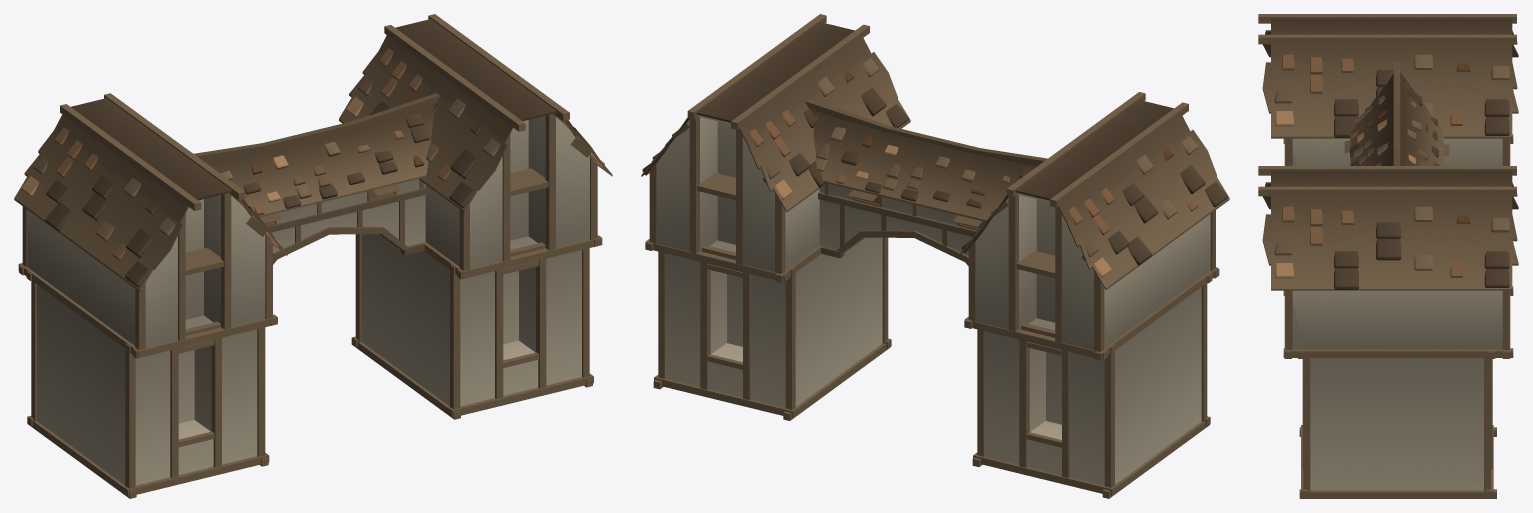
Rendered from ZLP_Build_A_2.FBX.
The picture shows the model from 3 angles, left to right: view 1: azimuth 30°, elevation 25°; view 2: azimuth 150°, elevation 25°; view 3: azimuth 270°, elevation 25°; orthographic projection. The views are drawn at different scales.
Parts seen in each view (by area): view 1: ZLP_Build_A_2; view 2: ZLP_Build_A_2; view 3: ZLP_Build_A_2.
Boxes of the visible parts, x1,y1,x2,y2 form: ZLP_Build_A_2: (14,14,612,498); ZLP_Build_A_2: (641,14,1229,498); ZLP_Build_A_2: (1258,14,1518,498).
Bounding box in the file's own units: 1400 × 841 × 689.
